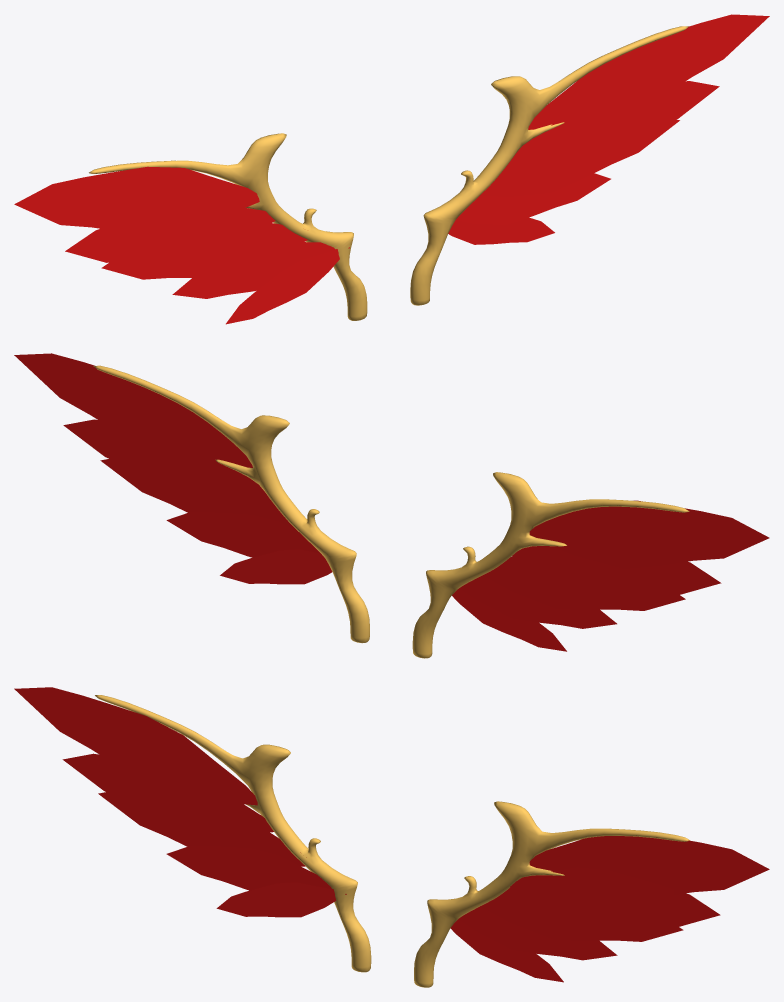
The model's file is wings.fbx.
3 renders of one model, top to bottom at view 1: azimuth 30°, elevation 25°; view 2: azimuth 150°, elevation 25°; view 3: azimuth 330°, elevation 25°, orthographic.
Parts seen in each view (by area): view 1: Plane.001, Plane.006, Plane.007, Plane.011, Plane.003, Plane, Plane.002, Plane.004, Plane.008, Plane.009, Plane.005, Plane.010; view 2: Plane.001, Plane.006, Plane.011, Plane, Plane.008, Plane.002, Plane.003, Plane.009, Plane.004, Plane.010, Plane.007, Plane.005; view 3: Plane.001, Plane.006, Plane.007, Plane, Plane.011, Plane.003, Plane.002, Plane.004, Plane.008, Plane.009, Plane.005, Plane.010.
Boxes of the visible parts, x1,y1,x2,y2 form: Plane.001: [14, 166, 259, 228]; Plane.006: [528, 14, 769, 129]; Plane.007: [510, 81, 719, 163]; Plane.011: [410, 26, 688, 305]; Plane.003: [101, 218, 307, 279]; Plane: [89, 133, 367, 320]; Plane.002: [65, 201, 275, 262]; Plane.004: [172, 241, 335, 298]; Plane.008: [480, 119, 679, 197]; Plane.009: [456, 173, 610, 224]; Plane.005: [226, 247, 349, 324]; Plane.010: [448, 217, 554, 244]; Plane.001: [529, 500, 769, 568]; Plane.006: [14, 353, 252, 469]; Plane.011: [93, 365, 369, 643]; Plane: [412, 472, 689, 658]; Plane.008: [100, 454, 297, 531]; Plane.002: [512, 539, 721, 594]; Plane.003: [483, 556, 685, 610]; Plane.009: [166, 512, 320, 557]; Plane.004: [459, 575, 616, 628]; Plane.010: [220, 549, 332, 584]; Plane.007: [63, 419, 268, 496]; Plane.005: [452, 588, 566, 651]; Plane.001: [14, 687, 257, 805]; Plane.006: [529, 836, 769, 894]; Plane.007: [510, 867, 720, 926]; Plane: [95, 695, 371, 972]; Plane.011: [414, 801, 689, 987]; Plane.003: [98, 788, 306, 866]; Plane.002: [62, 753, 273, 832]; Plane.004: [166, 846, 331, 890]; Plane.008: [480, 887, 683, 941]; Plane.009: [458, 906, 617, 960]; Plane.005: [216, 882, 346, 917]; Plane.010: [450, 919, 563, 982].
Bounding box in the file's own units: 593 × 159 × 15.3.
